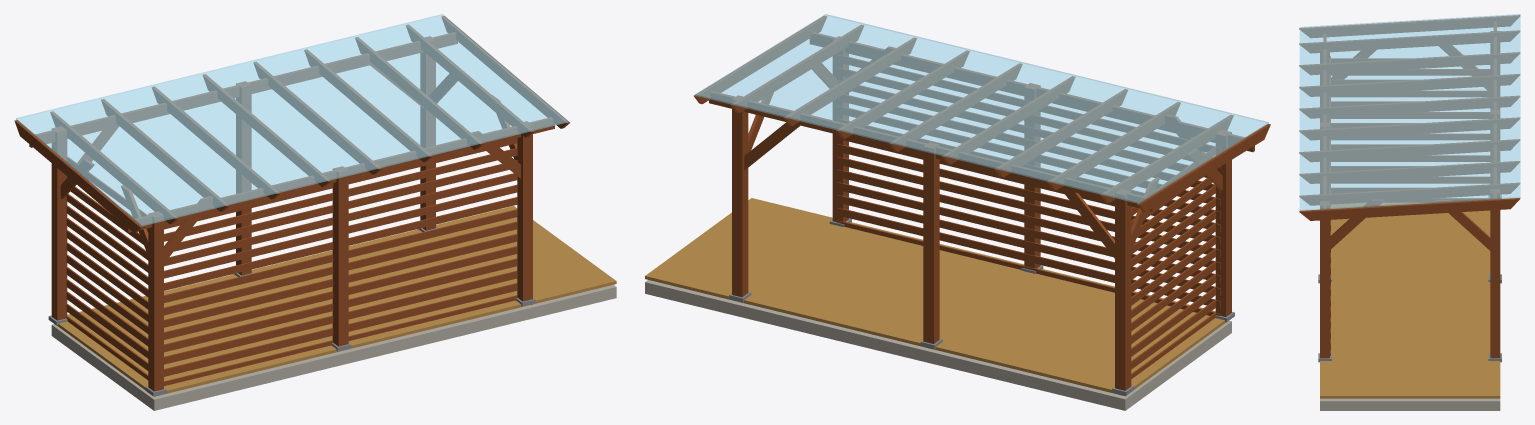
Rendered from pergola_final_model.dae.
3 views of the same model, side by side, from view 1: azimuth 30°, elevation 25°; view 2: azimuth 150°, elevation 25°; view 3: azimuth 270°, elevation 25° (orthographic). The views are drawn at different scales.
Visible parts, largest first — view 1: clear_polycarbonate_roof, terrace_deck_surface, concrete_slab_2500x6500, double_long_beam_outer_-1180, double_long_beam_outer_1180, long_privacy_slat_3, long_privacy_slat_6, long_privacy_slat_8, long_privacy_slat_4, long_privacy_slat_9, long_privacy_slat_10, long_privacy_slat_2 (+36 smaller); view 2: clear_polycarbonate_roof, terrace_deck_surface, concrete_slab_2500x6500, double_long_beam_outer_-1180, double_long_beam_outer_1180, glulam_post_140x140_-588_-1180, glulam_post_140x140_-3180_-1180, glulam_post_140x140_2004_-1180, long_privacy_slat_3, long_privacy_slat_2, long_privacy_slat_4, long_privacy_slat_5 (+36 smaller); view 3: clear_polycarbonate_roof, terrace_deck_surface, rafter_45x145_10, concrete_slab_2500x6500, rafter_45x145_5, rafter_45x145_6, rafter_45x145_4, rafter_45x145_2, rafter_45x145_3, rafter_45x145_7, rafter_45x145_1, rafter_45x145_8 (+23 smaller).
Part boxes in pixels (x1,y1,x2,y2): clear_polycarbonate_roof: [16, 14, 568, 226]; terrace_deck_surface: [57, 206, 616, 396]; concrete_slab_2500x6500: [51, 285, 616, 410]; double_long_beam_outer_-1180: [29, 32, 457, 147]; double_long_beam_outer_1180: [126, 117, 554, 232]; long_privacy_slat_3: [164, 270, 517, 364]; long_privacy_slat_6: [164, 234, 517, 327]; long_privacy_slat_8: [164, 209, 517, 302]; long_privacy_slat_4: [164, 258, 517, 352]; long_privacy_slat_9: [164, 197, 517, 290]; long_privacy_slat_10: [164, 184, 517, 278]; long_privacy_slat_2: [164, 283, 517, 376]; clear_polycarbonate_roof: [695, 14, 1268, 203]; terrace_deck_surface: [645, 198, 1225, 395]; concrete_slab_2500x6500: [645, 280, 1231, 410]; double_long_beam_outer_-1180: [709, 91, 1154, 211]; double_long_beam_outer_1180: [810, 32, 1254, 152]; glulam_post_140x140_-588_-1180: [923, 142, 939, 348]; glulam_post_140x140_-3180_-1180: [1115, 189, 1131, 394]; glulam_post_140x140_2004_-1180: [732, 95, 748, 302]; long_privacy_slat_3: [837, 195, 1220, 295]; long_privacy_slat_2: [837, 208, 1220, 308]; long_privacy_slat_4: [837, 182, 1220, 283]; long_privacy_slat_5: [837, 169, 1220, 270]; clear_polycarbonate_roof: [1299, 14, 1520, 210]; terrace_deck_surface: [1320, 203, 1500, 398]; rafter_45x145_10: [1299, 198, 1520, 220]; concrete_slab_2500x6500: [1320, 398, 1500, 410]; rafter_45x145_5: [1299, 96, 1519, 118]; rafter_45x145_6: [1299, 117, 1519, 140]; rafter_45x145_4: [1299, 74, 1519, 96]; rafter_45x145_2: [1299, 30, 1519, 53]; rafter_45x145_3: [1299, 52, 1519, 74]; rafter_45x145_7: [1299, 139, 1519, 161]; rafter_45x145_1: [1299, 15, 1519, 37]; rafter_45x145_8: [1299, 161, 1519, 183].
Size of the model in its own units: 6.86 by 2.89 by 3.07.
